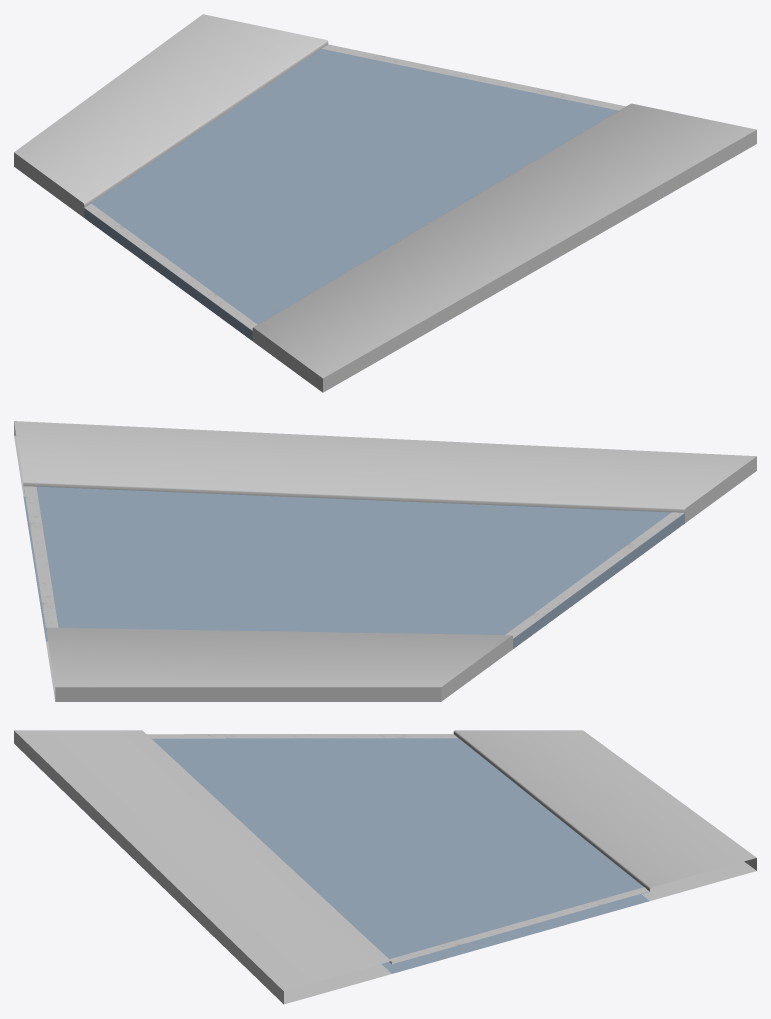
The model's file is Road_012.fbx.
The picture shows the model from 3 angles, top to bottom: view 1: azimuth 30°, elevation 25°; view 2: azimuth 150°, elevation 25°; view 3: azimuth 270°, elevation 25°; orthographic projection. The views are drawn at different scales.
Visible parts, largest first — view 1: Road_012; view 2: Road_012; view 3: Road_012.
Part boxes in pixels (box(x1,y1,x2,y2)): Road_012: box(14, 14, 756, 392); Road_012: box(14, 421, 756, 701); Road_012: box(14, 730, 756, 1004).
Size of the model in its own units: 2389 by 56.17 by 2874.
